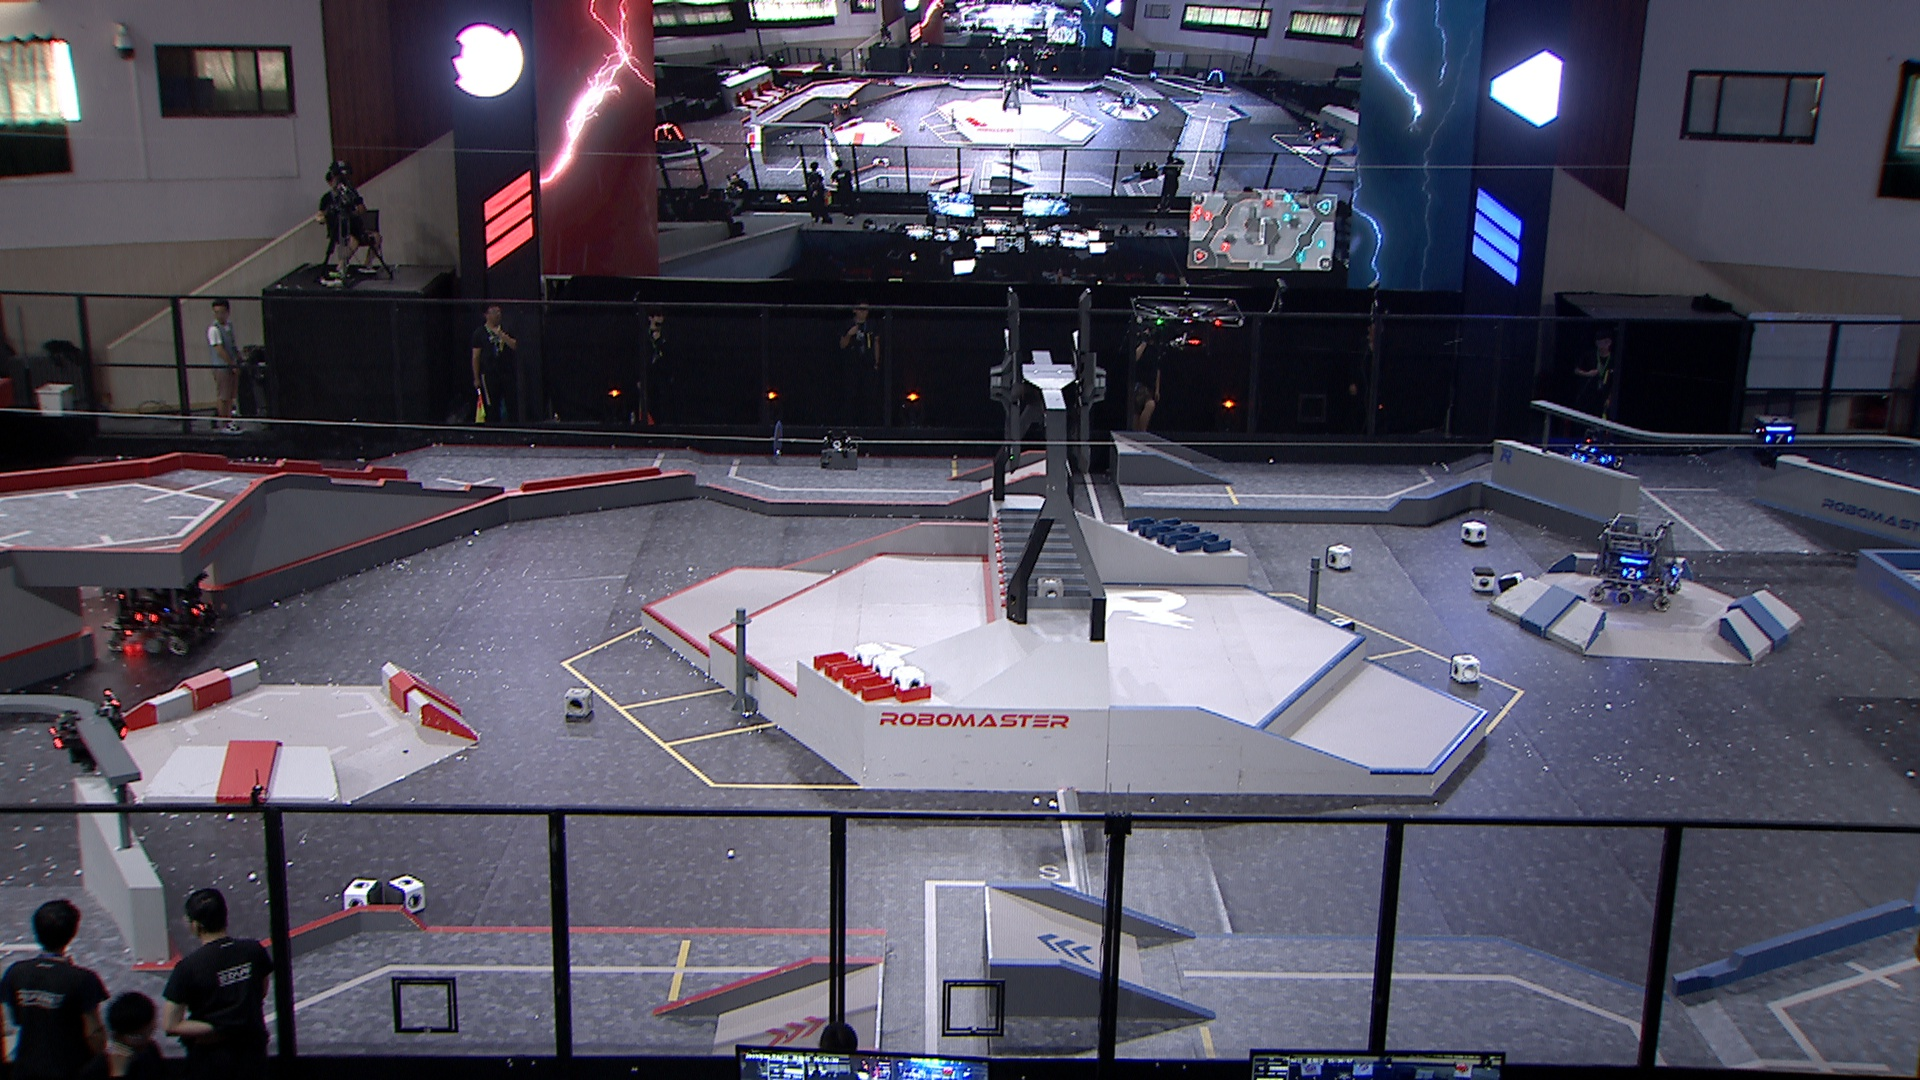armor: (131, 605, 161, 626), (1575, 438, 1602, 455), (187, 597, 210, 618), (46, 725, 65, 750), (1764, 431, 1793, 447), (1622, 564, 1644, 582), (1665, 560, 1685, 579), (1598, 451, 1614, 467)
car: (98, 560, 225, 659), (1588, 510, 1688, 609), (1557, 422, 1626, 471)
ignore: (654, 120, 692, 157), (1200, 65, 1229, 90)
watcher: (45, 684, 129, 775), (1749, 414, 1799, 472)
